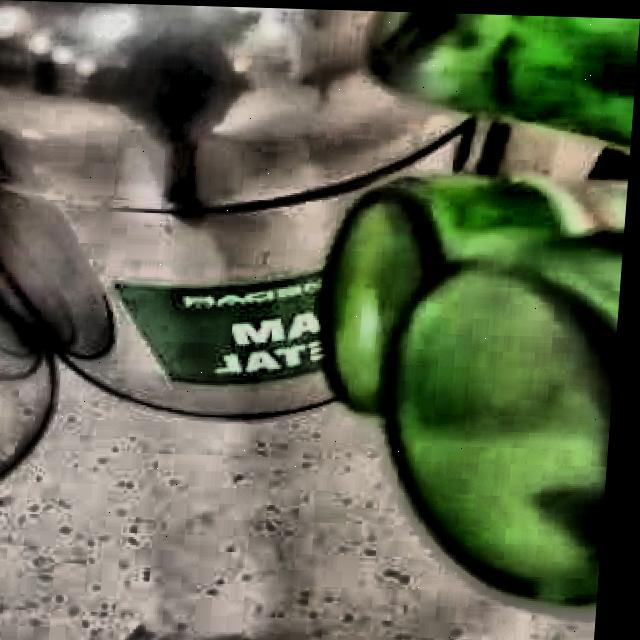glass: (326, 172, 631, 604)
